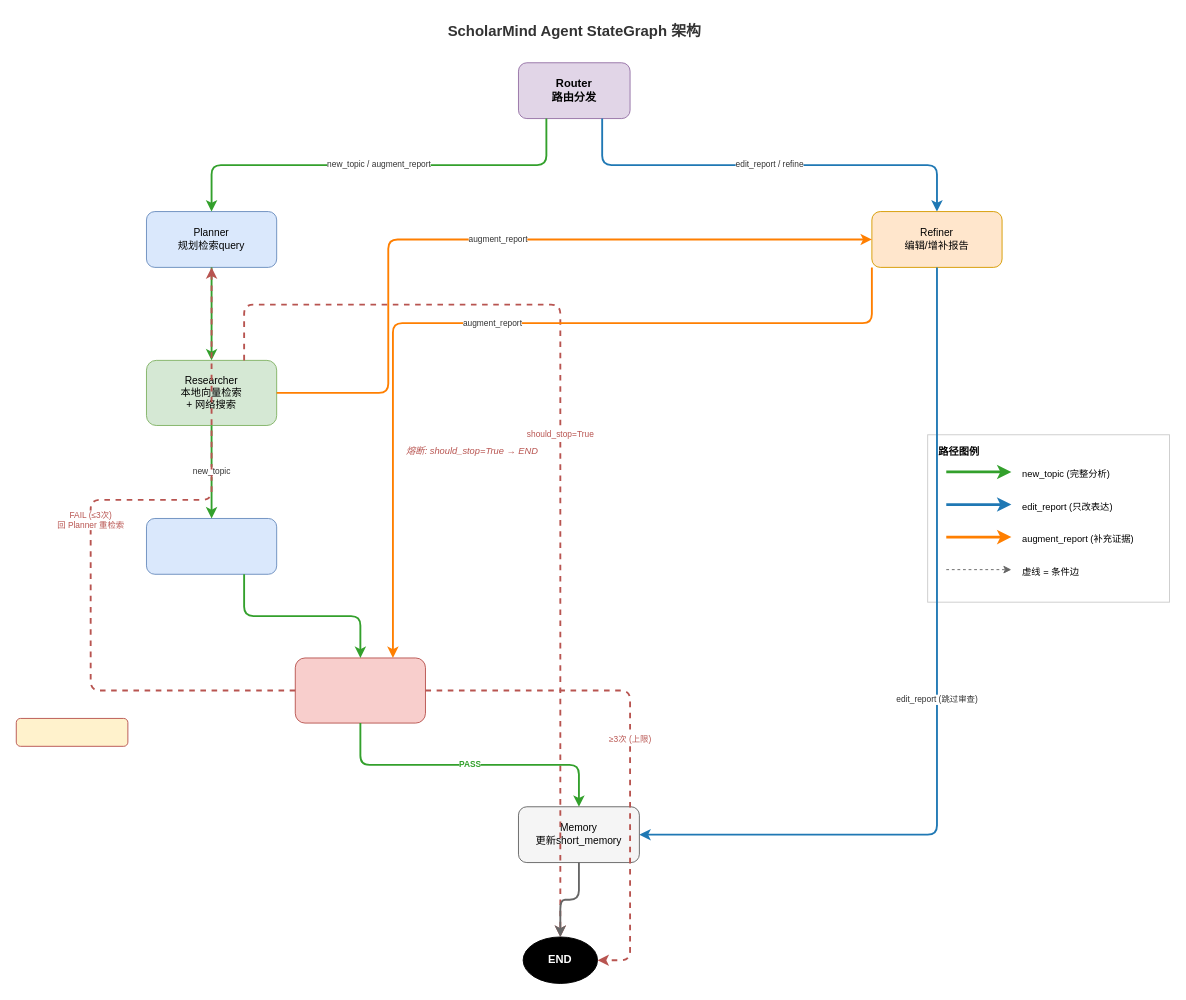
Some shapes in this 1186 by 1000 pixel diagram are drawn without their labels. The shapes that lost their labels are listed below. From the top down, each one's centre as x and y in pixels, then its label:
the point at 211,546: Writer 撰写完整报告
the point at 359,690: Reviewer 审查报告质量 PASS / FAIL
the point at 71,731: ⇄ 自校正循环 (最多3次)
